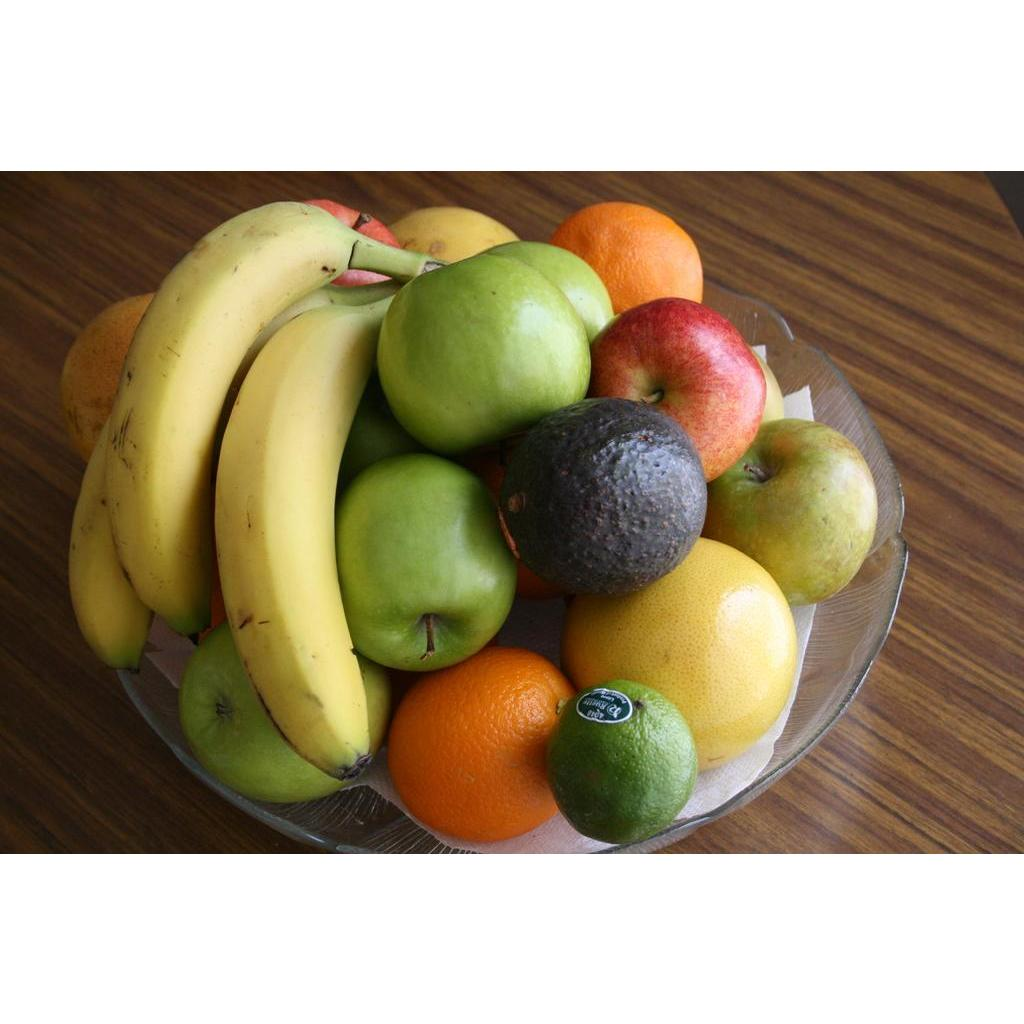apple: (585, 298, 773, 483)
banana: (103, 202, 429, 637), (215, 296, 393, 779)
